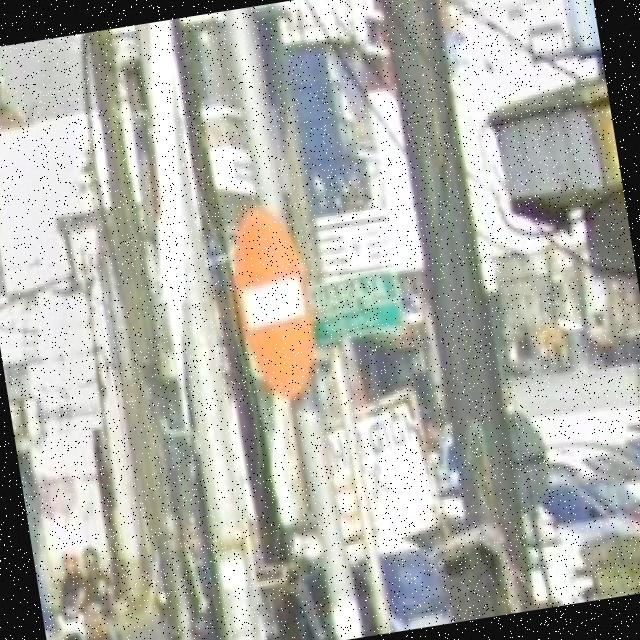Zakaz wjazdu: (224, 202, 328, 405)
